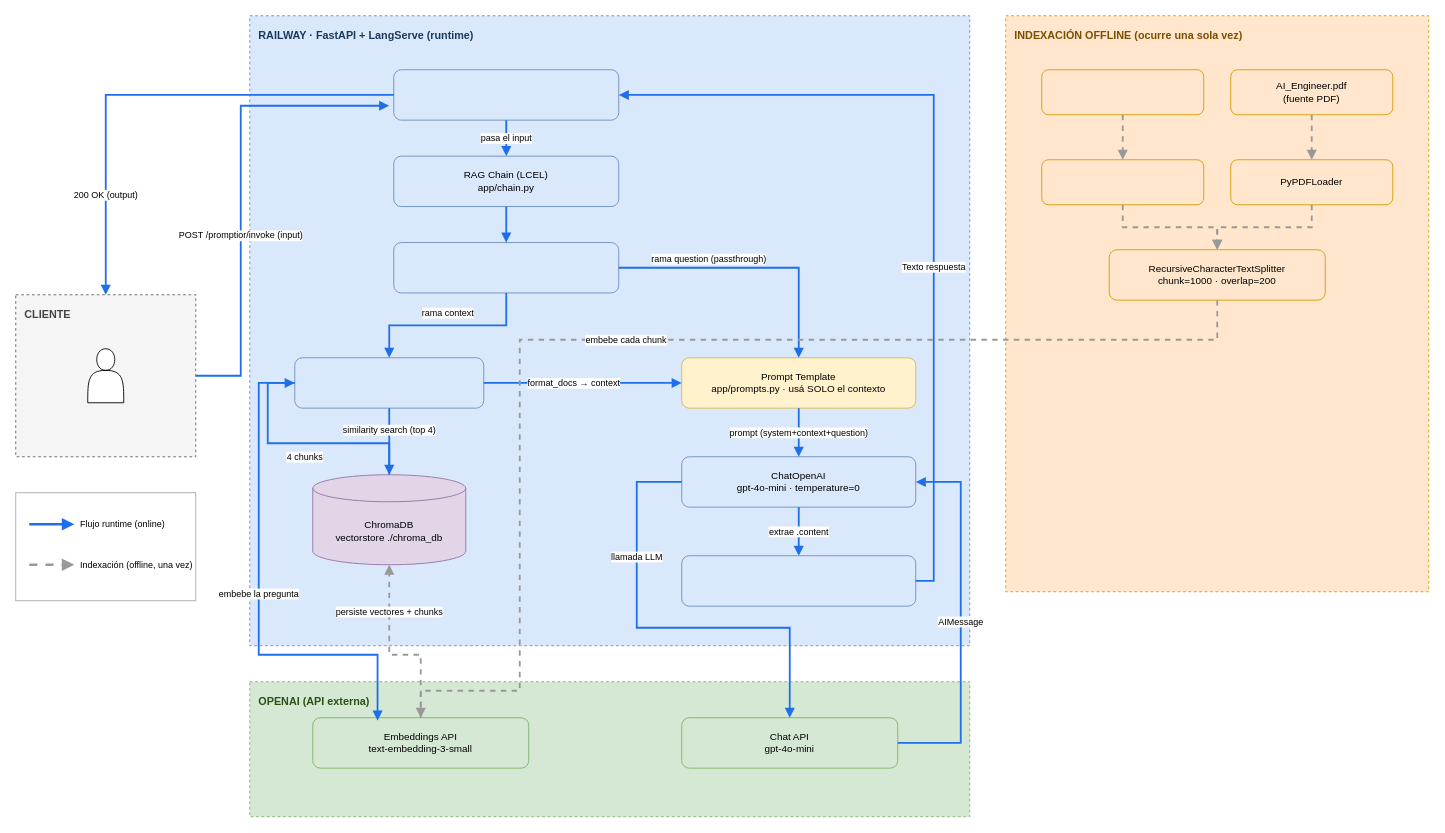
Image size: 1445x833. Some labels were removed from this diagram. Here are the shapes that lost their labels. From the top down, the centre of each, then its label:
At [506,94]: "LangServe Endpoint POST /promptior/invoke · server.py".
At [1122,92]: "promtior.ai (fuente web)".
At [1122,182]: "WebBaseLoader".
At [506,267]: "RunnableParallel 2 ramas en paralelo".
At [389,382]: "Retriever top_k = 4".
At [798,580]: "StrOutputParser extrae .content".
